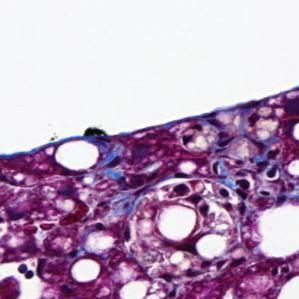inflammation: (192, 149, 283, 205), (156, 254, 249, 288)
